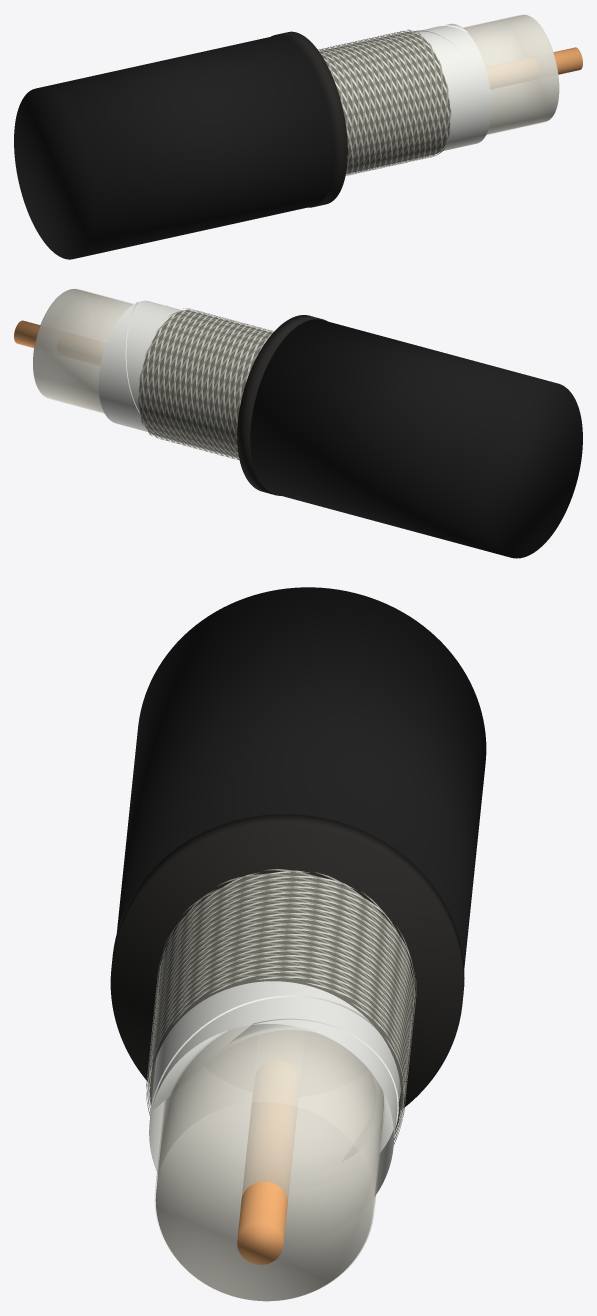
File: rf-belden4694r.glb
The picture shows the model from 3 angles, top to bottom: view 1: azimuth 30°, elevation 25°; view 2: azimuth 150°, elevation 25°; view 3: azimuth 270°, elevation 25°; orthographic projection. The views are drawn at different scales.
Visible parts, largest first — view 1: matte black pvc jacket body, braid dark diamond recess, gas injected foam dielectric, smooth dielectric skin, duobond foil sleeve, jacket cut lip, solid center conductor continuous, braid left hand woven carrier 13, braid left hand woven carrier 14, braid left hand woven carrier 12, braid left hand woven carrier 15, braid left hand woven carrier 16 (+11 smaller); view 2: matte black pvc jacket body, braid dark diamond recess, smooth dielectric skin, gas injected foam dielectric, duobond foil sleeve, jacket cut lip, solid center conductor continuous, braid left hand woven carrier 08, braid left hand woven carrier 07, braid left hand woven carrier 09, braid left hand woven carrier 10, braid left hand woven carrier 06 (+3 smaller); view 3: matte black pvc jacket body, gas injected foam dielectric, jacket cut lip, braid dark diamond recess, smooth dielectric skin, duobond foil sleeve, solid center conductor continuous, subtle foil wrap lap, braid left hand woven carrier 09, braid left hand woven carrier 10, braid left hand woven carrier 11, braid left hand woven carrier 08 (+4 smaller).
Boxes of the visible parts, x1,y1,x2,y2 form: matte black pvc jacket body: (14, 35, 334, 259); braid dark diamond recess: (319, 31, 450, 173); gas injected foam dielectric: (463, 15, 559, 134); smooth dielectric skin: (463, 14, 558, 134); duobond foil sleeve: (415, 23, 491, 150); jacket cut lip: (271, 31, 347, 207); solid center conductor continuous: (553, 47, 582, 74); braid left hand woven carrier 13: (327, 41, 437, 164); braid left hand woven carrier 14: (333, 45, 442, 163); braid left hand woven carrier 12: (322, 31, 431, 165); braid left hand woven carrier 15: (338, 44, 448, 162); braid left hand woven carrier 16: (344, 43, 451, 169); matte black pvc jacket body: (250, 319, 582, 558); braid dark diamond recess: (139, 310, 272, 458); smooth dielectric skin: (33, 288, 133, 413); gas injected foam dielectric: (33, 289, 132, 412); duobond foil sleeve: (98, 300, 182, 431); jacket cut lip: (237, 315, 327, 495); solid center conductor continuous: (14, 320, 40, 347); braid left hand woven carrier 08: (138, 315, 250, 458); braid left hand woven carrier 07: (141, 317, 243, 459); braid left hand woven carrier 09: (139, 314, 258, 456); braid left hand woven carrier 10: (145, 312, 264, 455); braid left hand woven carrier 06: (146, 318, 240, 460); matte black pvc jacket body: (116, 587, 486, 967); gas injected foam dielectric: (155, 1025, 383, 1301); jacket cut lip: (110, 814, 464, 1109); braid dark diamond recess: (150, 872, 412, 1132); smooth dielectric skin: (155, 1025, 384, 1301); duobond foil sleeve: (149, 981, 399, 1195); solid center conductor continuous: (237, 1101, 296, 1264); subtle foil wrap lap: (149, 995, 400, 1161); braid left hand woven carrier 09: (150, 874, 413, 1069); braid left hand woven carrier 10: (149, 879, 413, 1075); braid left hand woven carrier 11: (149, 884, 412, 1079); braid left hand woven carrier 08: (150, 869, 414, 1114).
Bounding box in the file's own units: 6.54 × 1.94 × 2.07.
